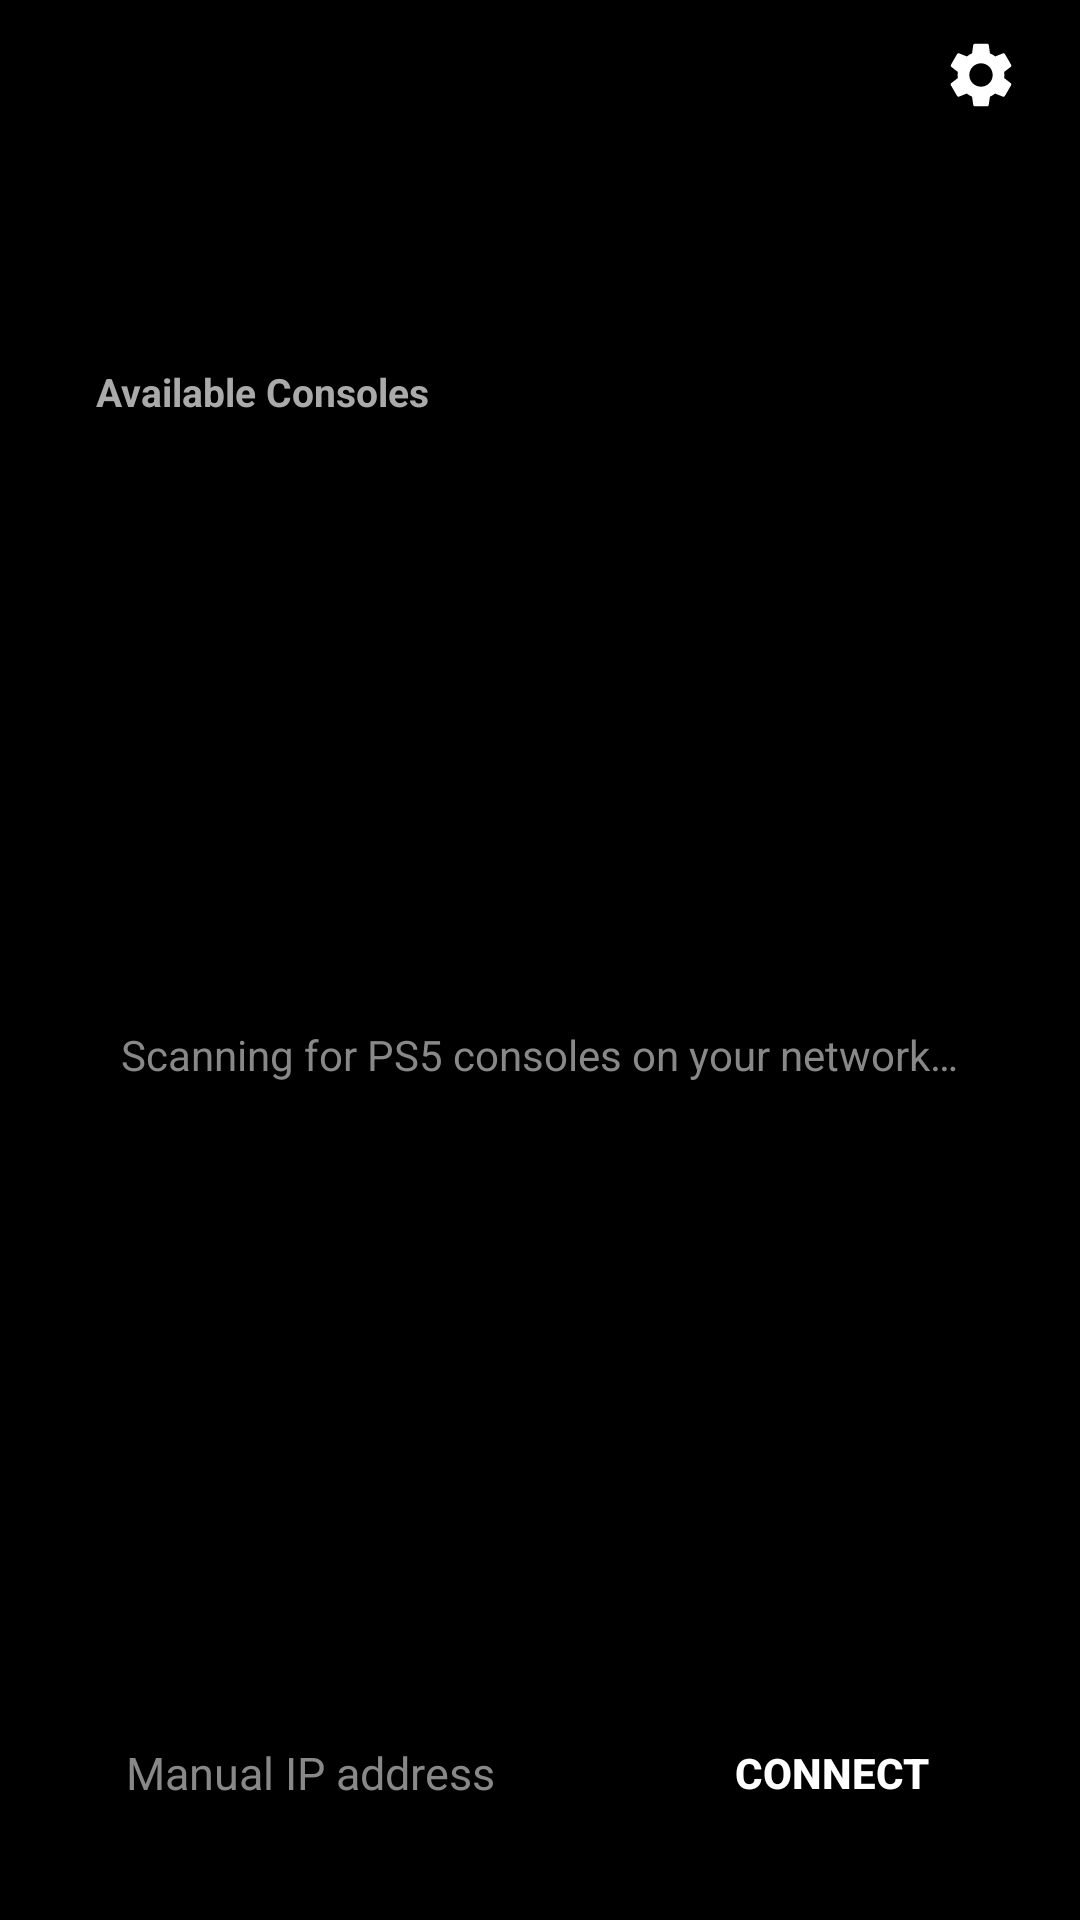

Icon bounding boxes for this 1080x1920 phone screenshot, format {"x1": x1, "y1": y1, "x2": x2, "y2": y2}:
Settings: {"x1": 950, "y1": 43, "x2": 1012, "y2": 107}
